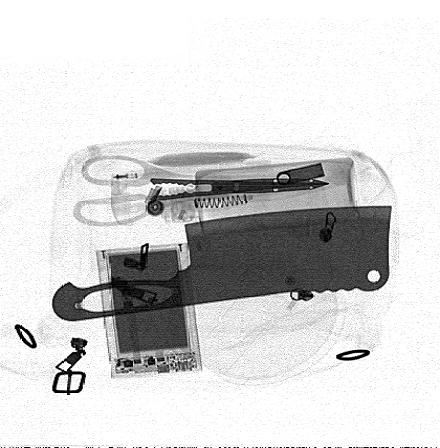Knife: (53, 206, 392, 320)
Powerbank: (96, 244, 203, 380)
Scissors: (74, 158, 332, 228)
